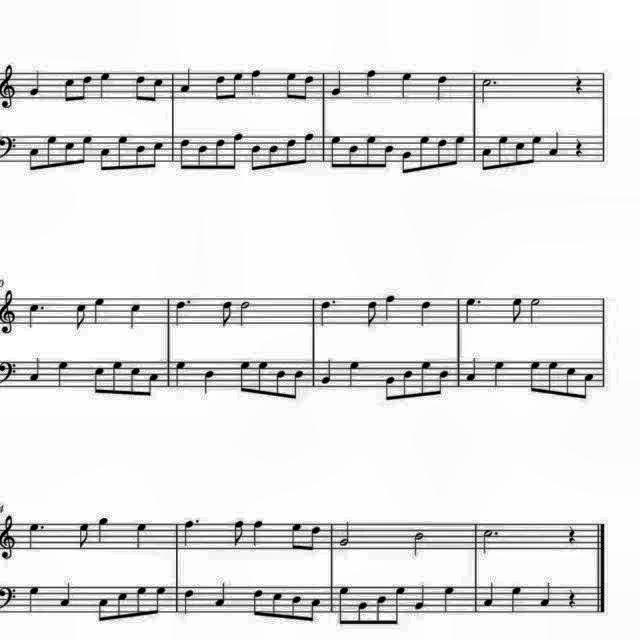Bass-clef: (0, 132, 20, 162), (0, 583, 18, 613), (1, 359, 20, 385)
Eighth-note: (335, 584, 353, 628), (392, 584, 408, 628), (42, 132, 59, 172), (418, 358, 434, 399), (416, 132, 432, 172), (114, 132, 130, 172), (71, 300, 89, 334), (494, 131, 510, 169), (362, 132, 378, 170), (108, 358, 124, 396), (237, 358, 253, 396), (254, 359, 270, 396), (546, 359, 562, 396), (374, 592, 390, 628), (229, 517, 247, 549), (134, 583, 150, 619), (302, 130, 318, 166), (286, 520, 304, 552), (212, 134, 228, 170), (562, 364, 578, 400), (328, 132, 344, 168), (526, 356, 542, 392), (361, 298, 379, 330), (217, 298, 235, 330), (509, 294, 527, 326), (232, 130, 246, 170), (249, 585, 265, 619), (154, 583, 170, 617), (74, 519, 92, 549), (399, 368, 415, 400), (78, 132, 94, 164), (283, 135, 299, 167), (113, 588, 129, 620), (272, 368, 288, 400), (270, 588, 286, 620), (282, 70, 298, 102), (248, 140, 264, 172), (88, 362, 104, 394), (92, 592, 108, 624), (452, 133, 468, 165), (528, 132, 544, 164), (128, 366, 144, 398), (580, 368, 596, 400), (230, 70, 246, 102), (290, 368, 306, 400), (61, 76, 78, 106), (436, 134, 450, 170), (132, 73, 148, 104), (78, 73, 94, 104), (287, 592, 303, 622), (26, 144, 42, 174), (302, 73, 318, 103), (382, 373, 398, 403), (308, 595, 324, 625), (148, 77, 164, 107), (212, 73, 228, 103), (306, 526, 322, 556), (180, 135, 194, 169), (398, 149, 414, 177), (354, 598, 370, 626), (150, 138, 164, 170), (437, 368, 453, 396), (196, 142, 212, 170), (346, 142, 362, 170), (98, 144, 114, 172), (145, 371, 161, 399), (382, 142, 396, 170), (63, 138, 77, 166), (513, 138, 527, 166), (134, 142, 148, 170), (267, 142, 281, 170), (481, 144, 495, 170)
Half-dot: (480, 524, 502, 556), (480, 76, 500, 106)
Half-note: (338, 521, 356, 551), (410, 528, 428, 558), (526, 296, 544, 326), (238, 298, 254, 328)
Quarter-dot: (462, 293, 486, 331), (182, 516, 206, 548), (24, 520, 48, 552), (24, 300, 48, 332), (317, 296, 339, 328), (172, 296, 192, 328)
Quarter-note: (398, 70, 418, 102), (126, 301, 146, 331), (132, 520, 152, 550), (327, 66, 345, 98), (27, 68, 45, 100), (246, 66, 264, 98), (95, 514, 113, 546), (91, 294, 109, 326), (96, 68, 114, 100), (432, 73, 450, 104), (360, 68, 378, 98), (58, 580, 76, 610), (211, 579, 229, 609), (536, 580, 554, 610), (417, 298, 435, 328), (55, 359, 73, 389), (490, 357, 508, 387), (345, 357, 363, 387), (442, 584, 458, 616), (382, 290, 398, 322), (178, 65, 195, 95), (200, 368, 218, 396), (413, 583, 429, 613), (510, 583, 526, 613), (252, 520, 268, 550), (26, 584, 42, 614), (172, 359, 188, 389), (464, 355, 480, 383), (548, 130, 564, 158), (482, 580, 498, 608), (28, 356, 44, 384), (180, 588, 196, 616), (320, 358, 334, 386)
Quarter-rest: (570, 70, 586, 96), (570, 134, 586, 160), (564, 586, 580, 610), (564, 525, 580, 549)
Treble-clef: (0, 60, 20, 111), (1, 512, 20, 564), (1, 288, 20, 340)
